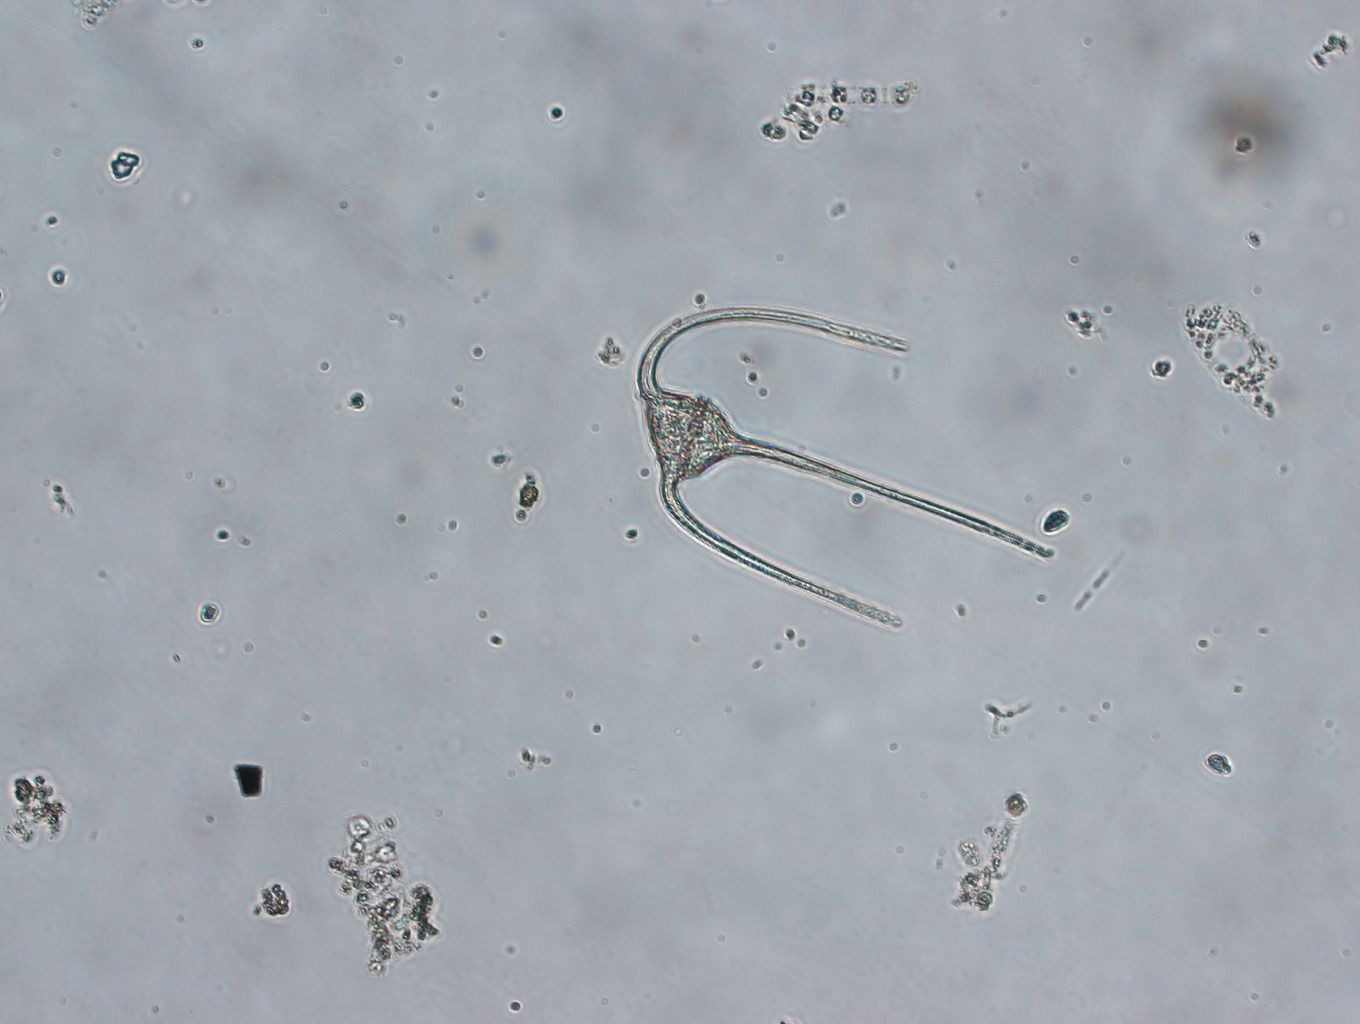ceratium trichoceros: (622, 285, 1055, 626)
skeletonema: (784, 62, 924, 125)
